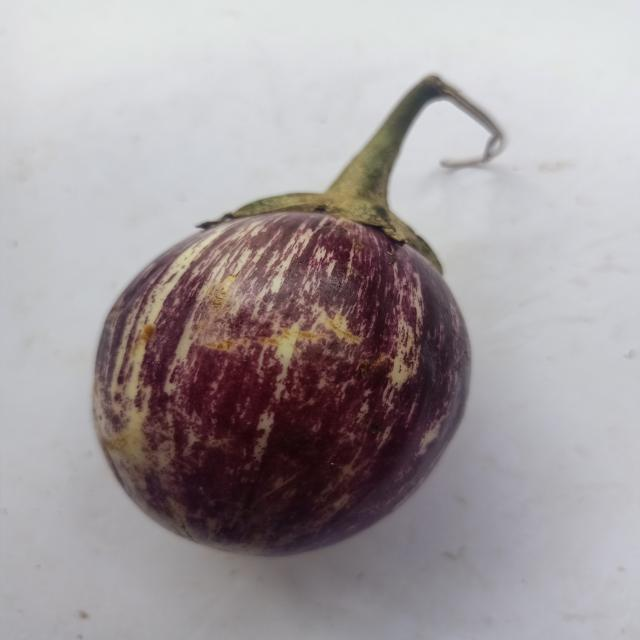Eggplant: (60, 42, 545, 570)
